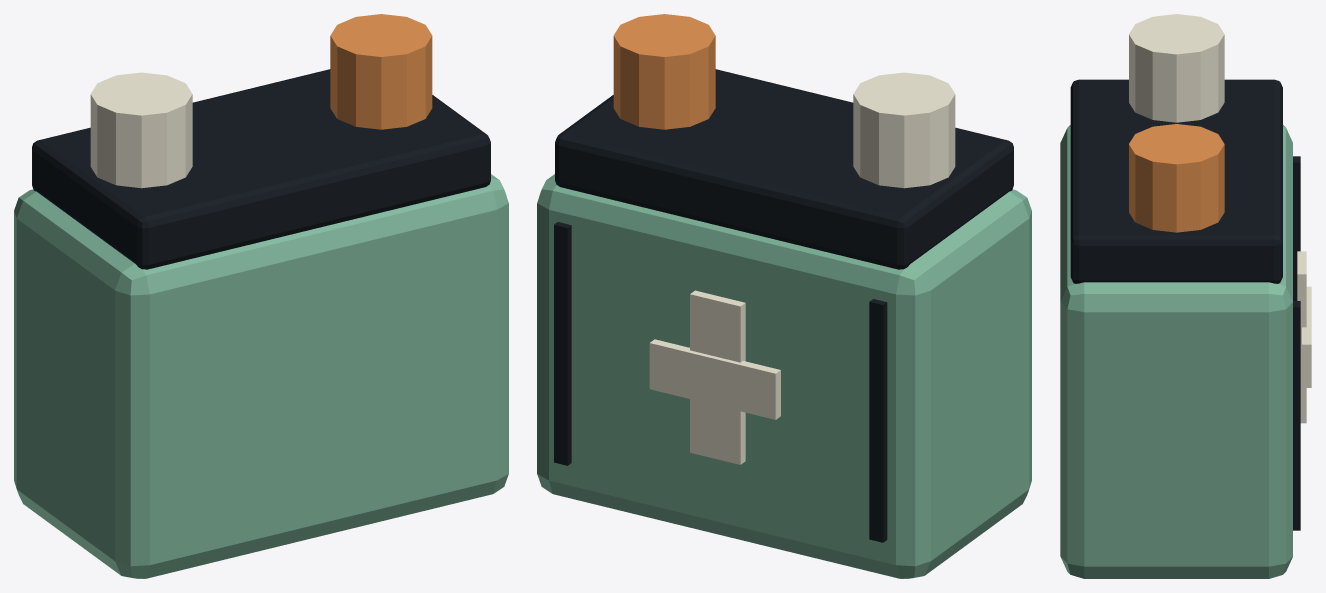
File: battery.glb
3 views of the same model, side by side, from view 1: azimuth 30°, elevation 25°; view 2: azimuth 150°, elevation 25°; view 3: azimuth 270°, elevation 25° (orthographic). The views are drawn at different scales.
Visible parts, largest first — view 1: BatteryBody, BatteryTop, Terminal.001, Terminal; view 2: BatteryBody, BatteryTop, Terminal.001, Terminal, ChargeMark.001, ChargeMark, CaseSeam, CaseSeam.001; view 3: BatteryBody, BatteryTop, Terminal.001, Terminal, CaseSeam.001, ChargeMark, CaseSeam, ChargeMark.001.
Boxes of the visible parts, bbox=[...] form: BatteryBody: bbox=[14, 174, 508, 578]; BatteryTop: bbox=[32, 69, 490, 269]; Terminal.001: bbox=[330, 14, 432, 129]; Terminal: bbox=[90, 72, 192, 188]; BatteryBody: bbox=[537, 174, 1031, 578]; BatteryTop: bbox=[555, 69, 1013, 269]; Terminal.001: bbox=[613, 14, 715, 129]; Terminal: bbox=[853, 72, 955, 188]; ChargeMark.001: bbox=[649, 339, 780, 419]; ChargeMark: bbox=[690, 290, 745, 464]; CaseSeam: bbox=[869, 299, 887, 542]; CaseSeam.001: bbox=[554, 222, 571, 465]; BatteryBody: bbox=[1060, 125, 1292, 578]; BatteryTop: bbox=[1070, 79, 1282, 283]; Terminal.001: bbox=[1129, 124, 1224, 232]; Terminal: bbox=[1129, 14, 1224, 122]; CaseSeam.001: bbox=[1293, 301, 1300, 530]; ChargeMark: bbox=[1297, 251, 1306, 423]; CaseSeam: bbox=[1293, 156, 1300, 300]; ChargeMark.001: bbox=[1302, 286, 1311, 387].
Bounding box in the file's own units: 0.62 × 0.66 × 0.367.
